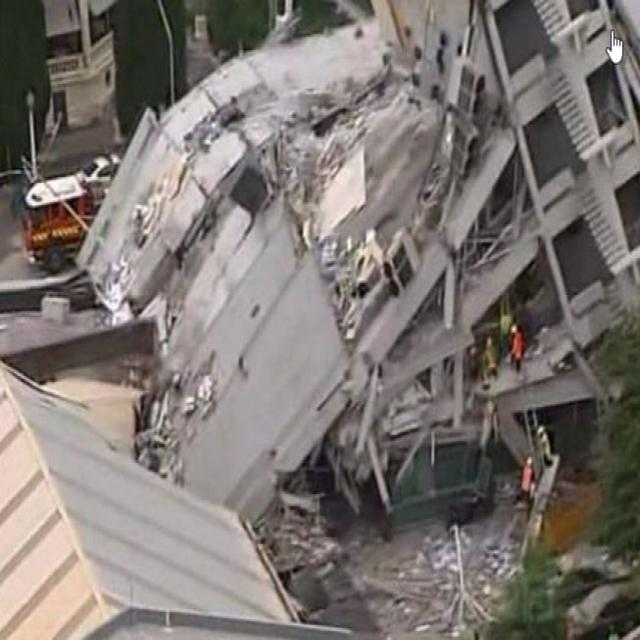collapsed_building: (90, 0, 629, 521)
